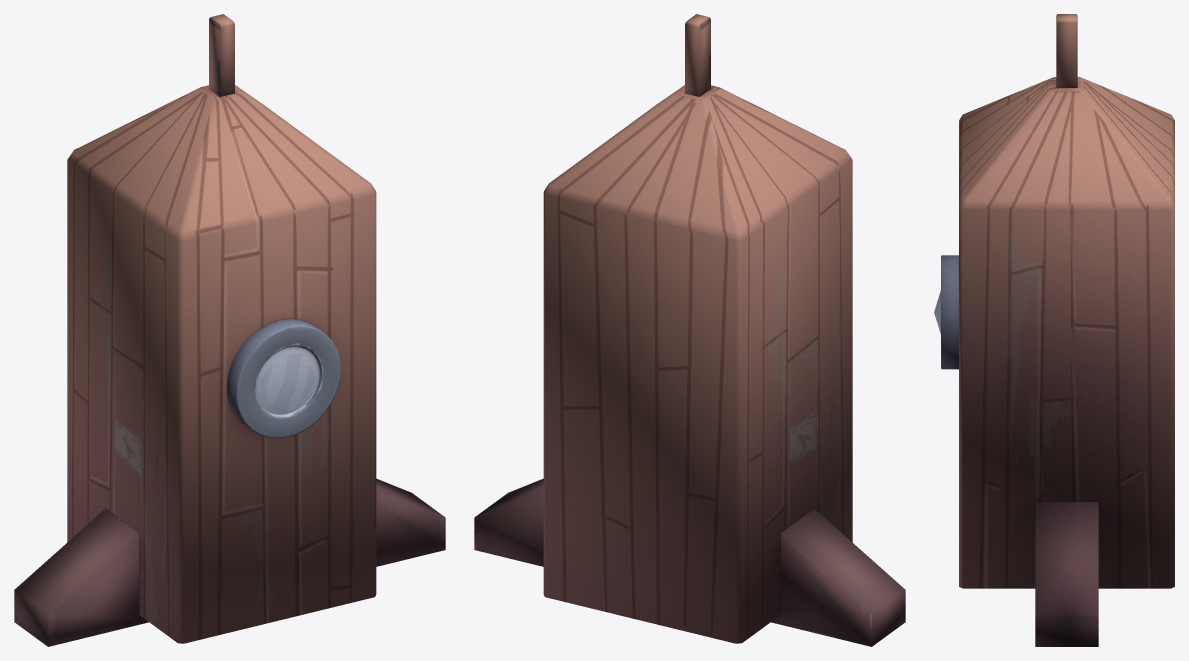
Rendered from NaveVers1.fbx.
The picture shows the model from 3 angles, left to right: view 1: azimuth 30°, elevation 25°; view 2: azimuth 150°, elevation 25°; view 3: azimuth 270°, elevation 25°; orthographic projection. The views are drawn at different scales.
Parts seen in each view (by area): view 1: NaveVer1; view 2: NaveVer1; view 3: NaveVer1.
Boxes of the visible parts, x1,y1,x2,y2 form: NaveVer1: (14, 14, 445, 646); NaveVer1: (474, 14, 905, 646); NaveVer1: (934, 14, 1174, 646).
Size of the model in its own units: 195 by 109 by 267.
